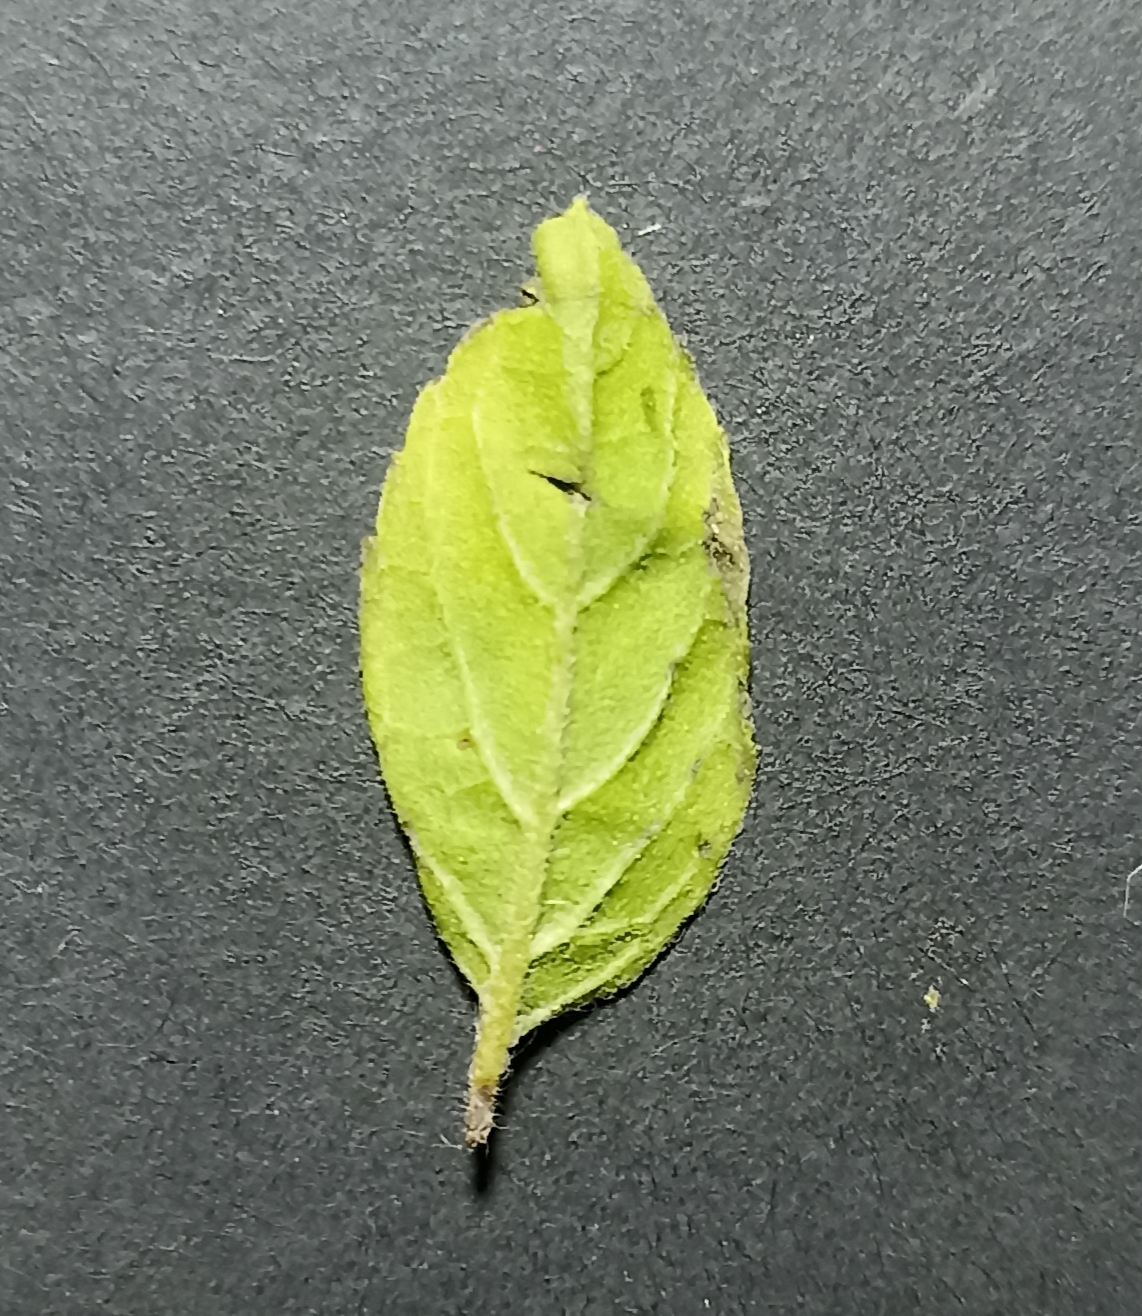Unhealthy: (351, 180, 778, 1002)
